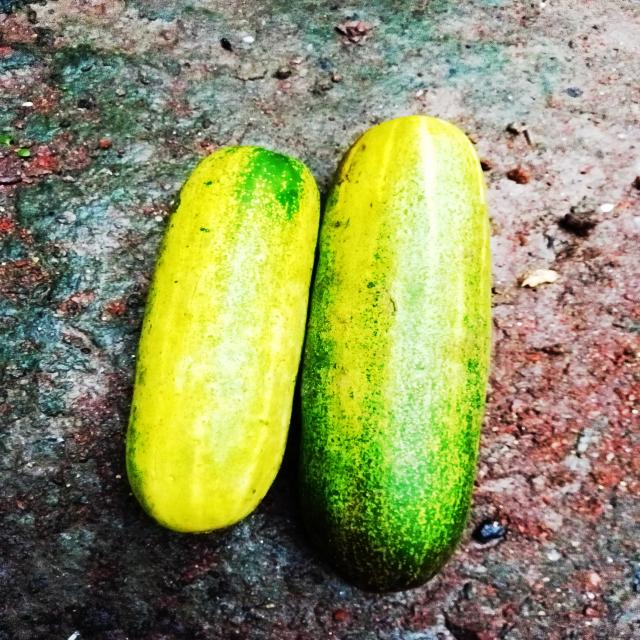Fresh-Cucumber: (296, 110, 496, 597), (122, 140, 322, 542)
